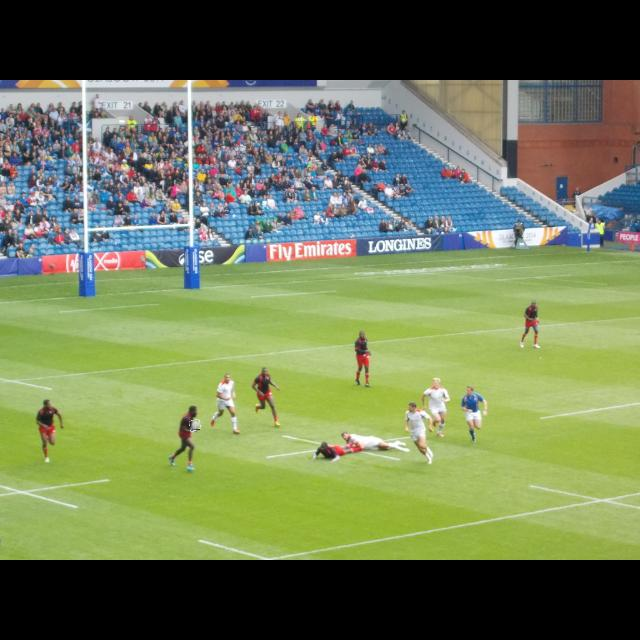Football: (190, 420, 200, 430)
